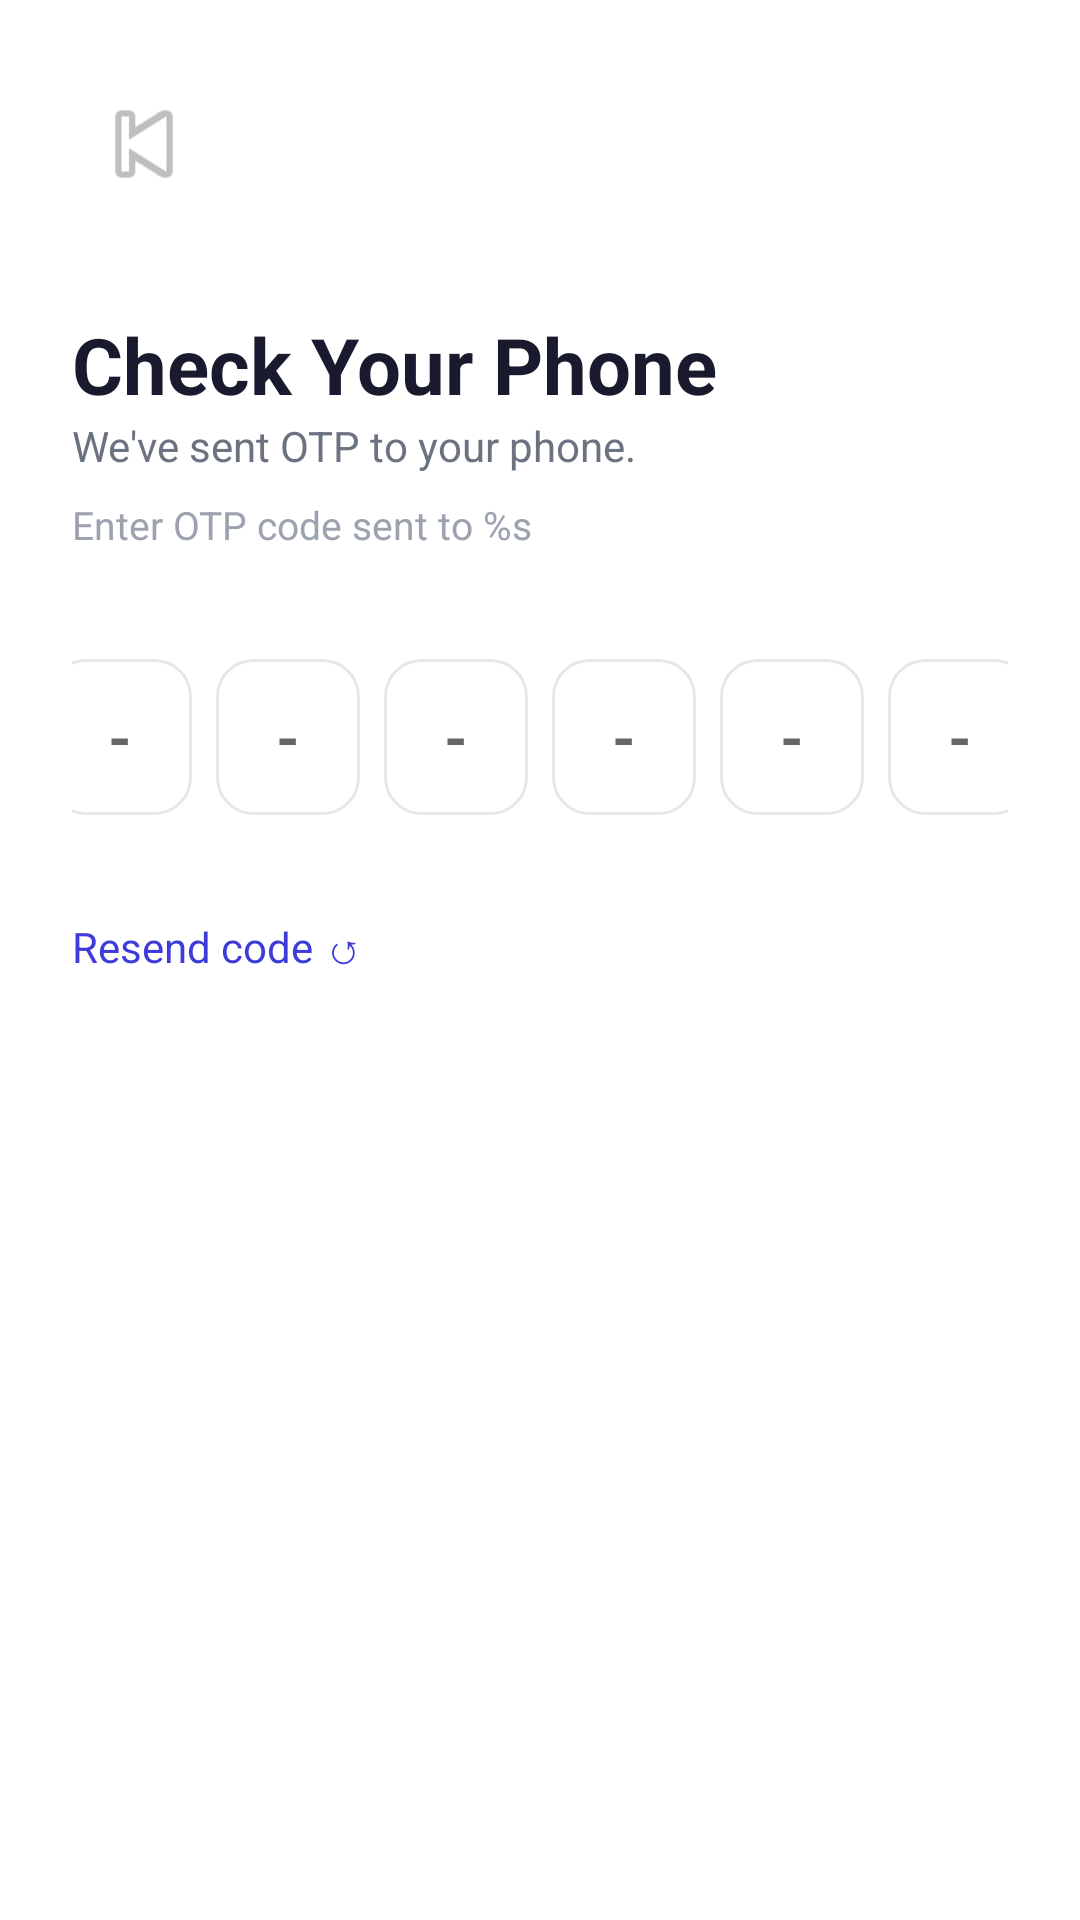

Locate icon controls on the screen. Image size 1080px x 1920px, boxes as (x1, y1, x2, y2).
Back: (115, 110, 173, 178)
